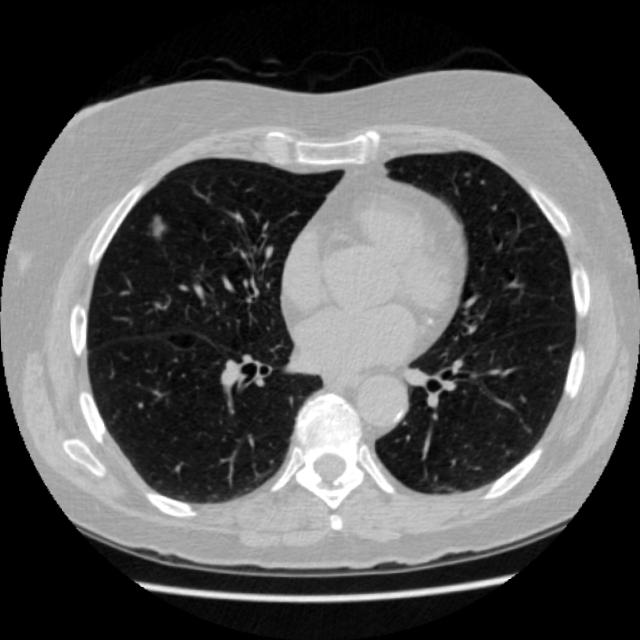nodule: (134, 204, 177, 247)
